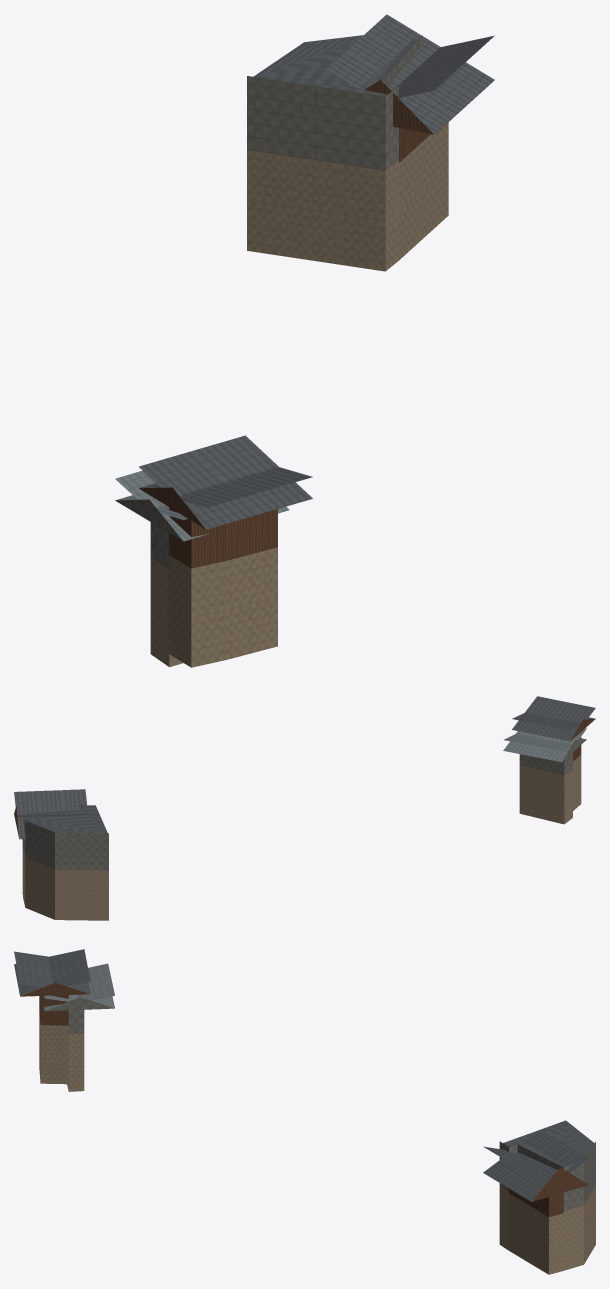
The model's file is bld_c33_46_237.gltf.
The picture shows the model from 3 angles, top to bottom: view 1: azimuth 30°, elevation 25°; view 2: azimuth 150°, elevation 25°; view 3: azimuth 270°, elevation 25°; orthographic projection. The views are drawn at different scales.
Visible parts, largest first — view 1: bld_c33_46_237; view 2: bld_c33_46_237; view 3: bld_c33_46_237.
Part boxes in pixels (x1,y1,x2,y2): bld_c33_46_237: (115,14,494,667); bld_c33_46_237: (14,696,595,920); bld_c33_46_237: (14,949,595,1274).
Size of the model in its own units: 35.68 by 9.6 by 41.19.
Materials: 7 (7 with a texture image).
